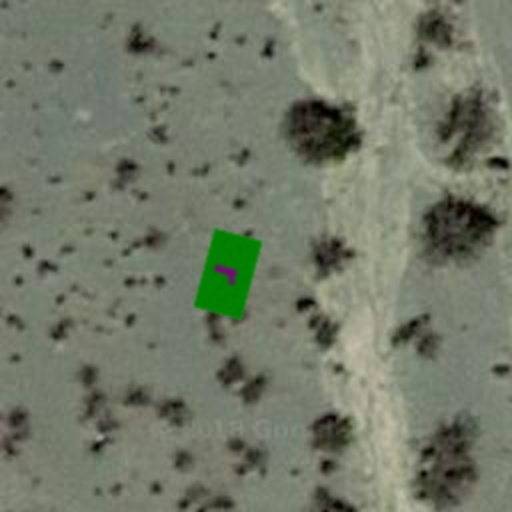rectangle: (176, 222, 280, 326)
